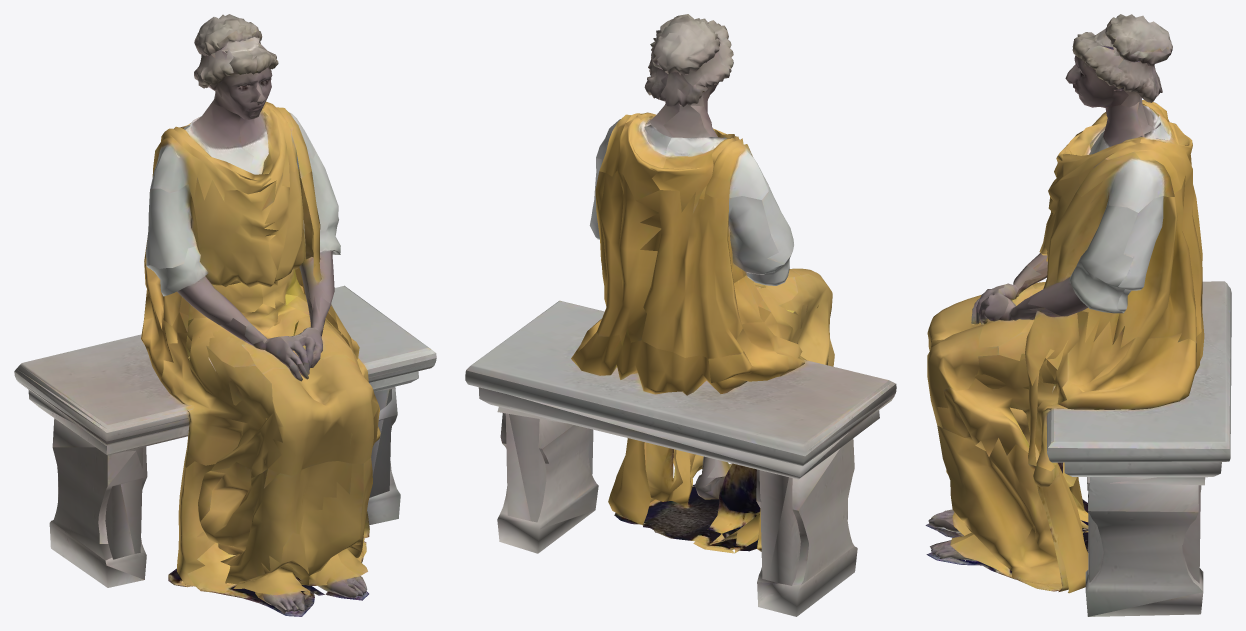
File: matron_f1.glb
The picture shows the model from 3 angles, left to right: view 1: azimuth 30°, elevation 25°; view 2: azimuth 150°, elevation 25°; view 3: azimuth 270°, elevation 25°; orthographic projection. The views are drawn at different scales.
Bounding box in the file's own units: 0.6621 × 0.9961 × 0.5254.
Materials: 1 (1 with a texture image).
